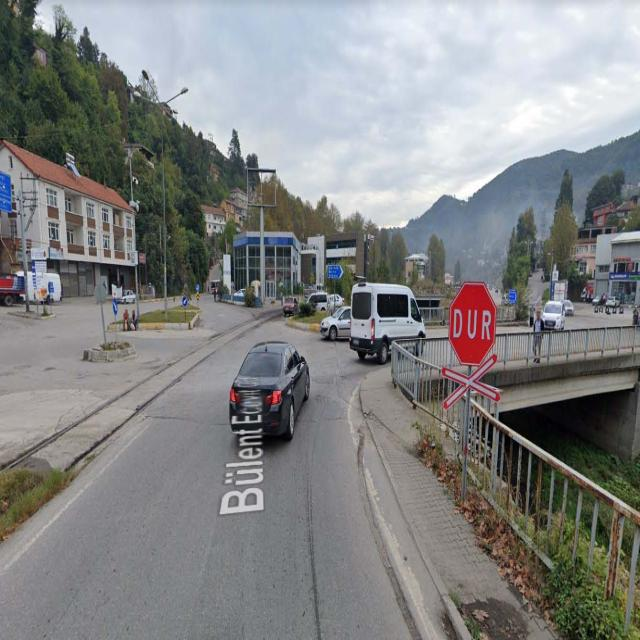dur: (450, 282, 496, 367)
